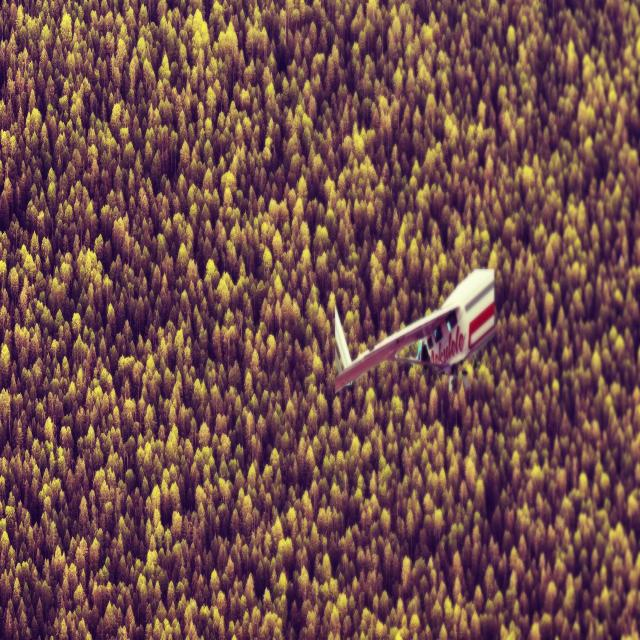airplane: (332, 267, 496, 395)
